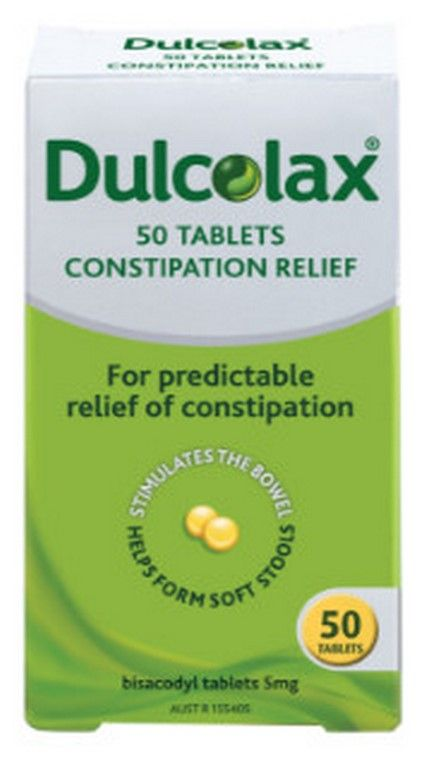Medicine: (20, 18, 416, 748)
